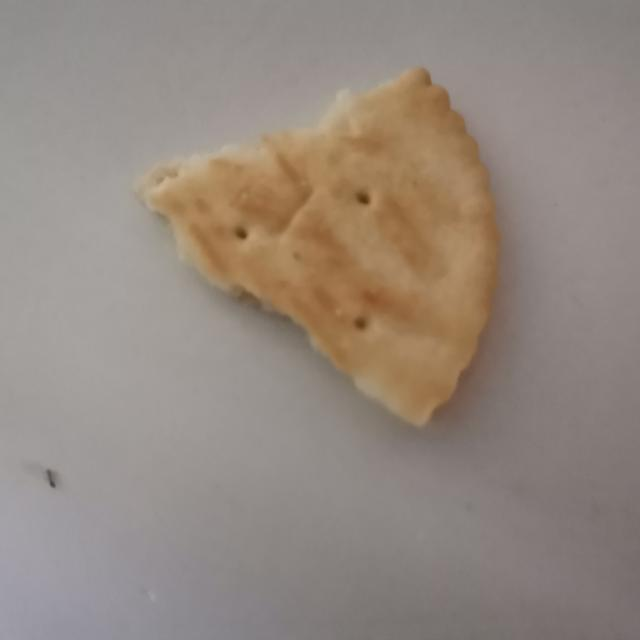Broken: (136, 64, 501, 428)
